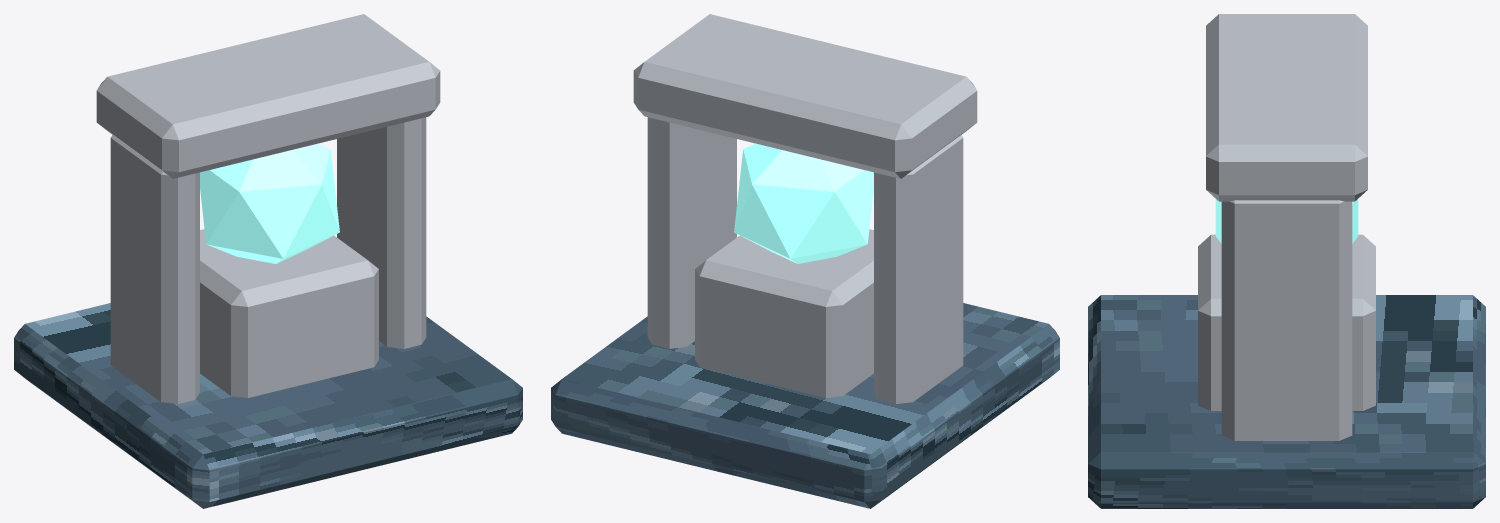
Rendered from relicario_solar.glb.
3 renders of one model, left to right at view 1: azimuth 30°, elevation 25°; view 2: azimuth 150°, elevation 25°; view 3: azimuth 270°, elevation 25°, orthographic. The views are drawn at different scales.
Parts seen in each view (by area): view 1: novo_relicario_solar; view 2: novo_relicario_solar; view 3: novo_relicario_solar.
Part boxes in pixels (box(x1,y1,x2,y2)): novo_relicario_solar: box(14, 14, 522, 508); novo_relicario_solar: box(551, 14, 1059, 508); novo_relicario_solar: box(1088, 14, 1485, 508).
Bounding box in the file's own units: 0.76 × 0.74 × 0.76.
Materials: 3 (1 with a texture image).
